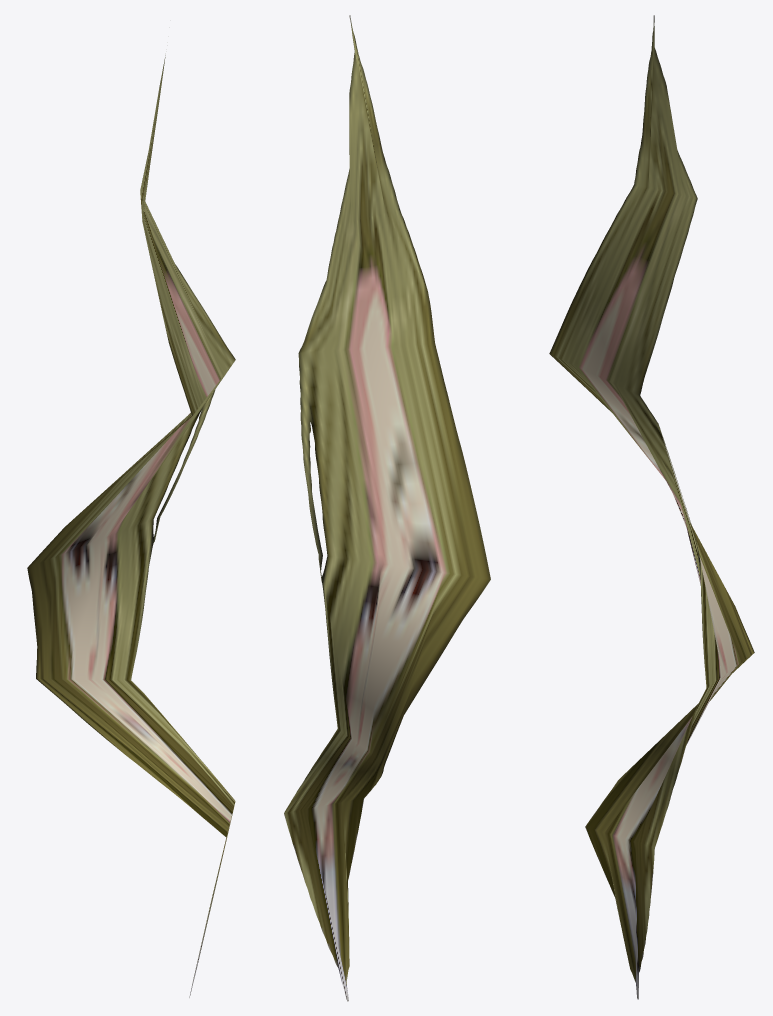
Rendered from shandian_1.FBX.
The picture shows the model from 3 angles, left to right: view 1: azimuth 30°, elevation 25°; view 2: azimuth 150°, elevation 25°; view 3: azimuth 270°, elevation 25°; orthographic projection.
Parts seen in each view (by area): view 1: shandian_100; view 2: shandian_100; view 3: shandian_100.
Boxes of the visible parts, bbox=[...] form: shandian_100: bbox=[27, 55, 235, 997]; shandian_100: bbox=[284, 15, 490, 1001]; shandian_100: bbox=[549, 15, 754, 999].
Bounding box in the file's own units: 44.3 × 181 × 37.35.
